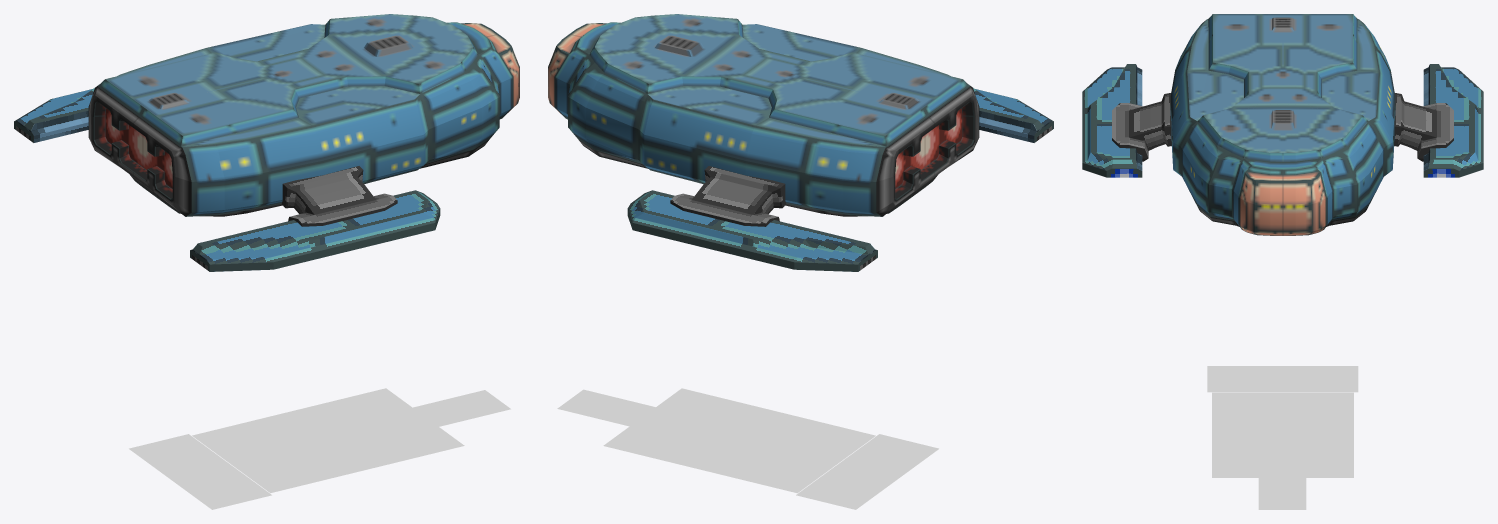
File: R1_interior_test.fbx
The picture shows the model from 3 angles, left to right: view 1: azimuth 30°, elevation 25°; view 2: azimuth 150°, elevation 25°; view 3: azimuth 270°, elevation 25°; orthographic projection. The views are drawn at different scales.
Visible parts, largest first — view 1: Main_ship_hull, Plane.001, Pylons; view 2: Main_ship_hull, Plane.001, Pylons; view 3: Main_ship_hull, Plane.001, Pylons.
Boxes of the visible parts, box(x1,y1,x2,y2) form: Main_ship_hull: box(88, 14, 519, 216); Plane.001: box(129, 388, 510, 509); Pylons: box(14, 84, 440, 271); Main_ship_hull: box(548, 14, 979, 216); Plane.001: box(557, 388, 938, 509); Pylons: box(627, 84, 1053, 271); Main_ship_hull: box(1170, 14, 1395, 235); Plane.001: box(1207, 366, 1358, 509); Pylons: box(1082, 64, 1483, 177).
Size of the model in its own units: 403 by 374 by 394.
